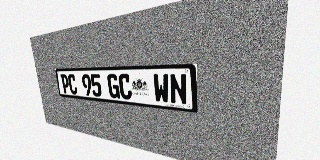5: (90, 74, 102, 97)
9: (81, 74, 93, 96)
C: (118, 74, 132, 100), (67, 74, 78, 95)
G: (107, 74, 120, 99)
N: (169, 73, 188, 105)
P: (60, 74, 70, 94)
W: (153, 73, 170, 104)
